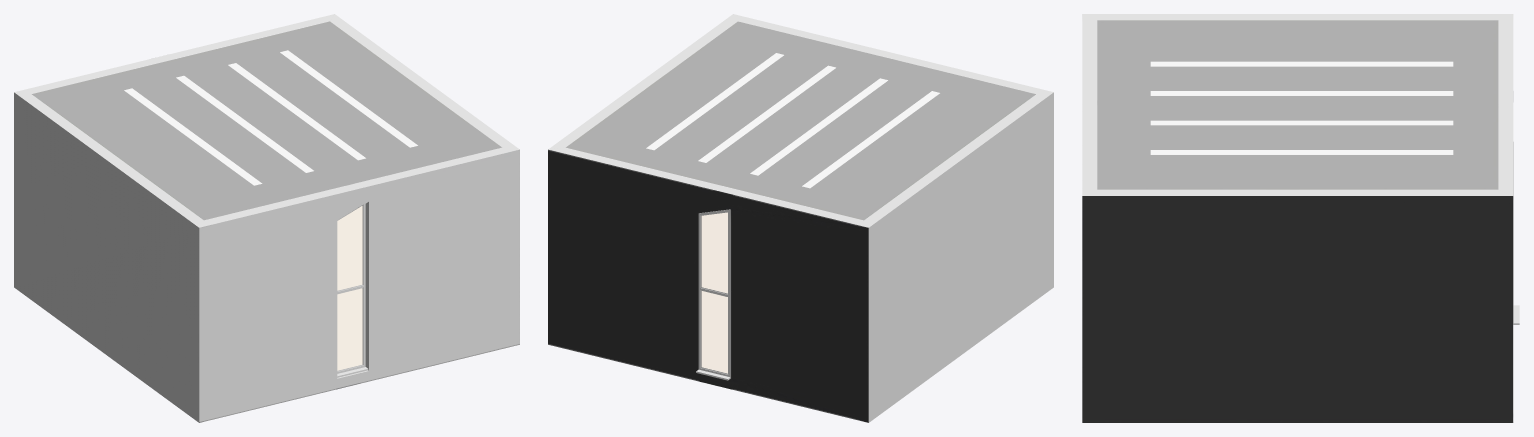
The picture shows the model from 3 angles, left to right: view 1: azimuth 30°, elevation 25°; view 2: azimuth 150°, elevation 25°; view 3: azimuth 270°, elevation 25°; orthographic projection. The views are drawn at different scales.
Parts seen in each view (by area): view 1: Room, Ceiling, Window, Plane; view 2: Room, Ceiling, Window.001, Plane; view 3: Room, Ceiling, Plane.
Boxes of the visible parts, <box> form: Room: <box>14,14,519,422</box>; Ceiling: <box>32,21,501,220</box>; Window: <box>337,204,368,377</box>; Plane: <box>124,50,417,185</box>; Room: <box>548,14,1053,422</box>; Ceiling: <box>566,21,1035,220</box>; Window.001: <box>696,209,730,380</box>; Plane: <box>646,53,939,188</box>; Room: <box>1082,14,1513,422</box>; Ceiling: <box>1097,20,1498,189</box>; Plane: <box>1150,61,1453,154</box>.
Bounding box in the file's own units: 8.6 × 5.01 × 8.73.
7 materials, 2 textured.
